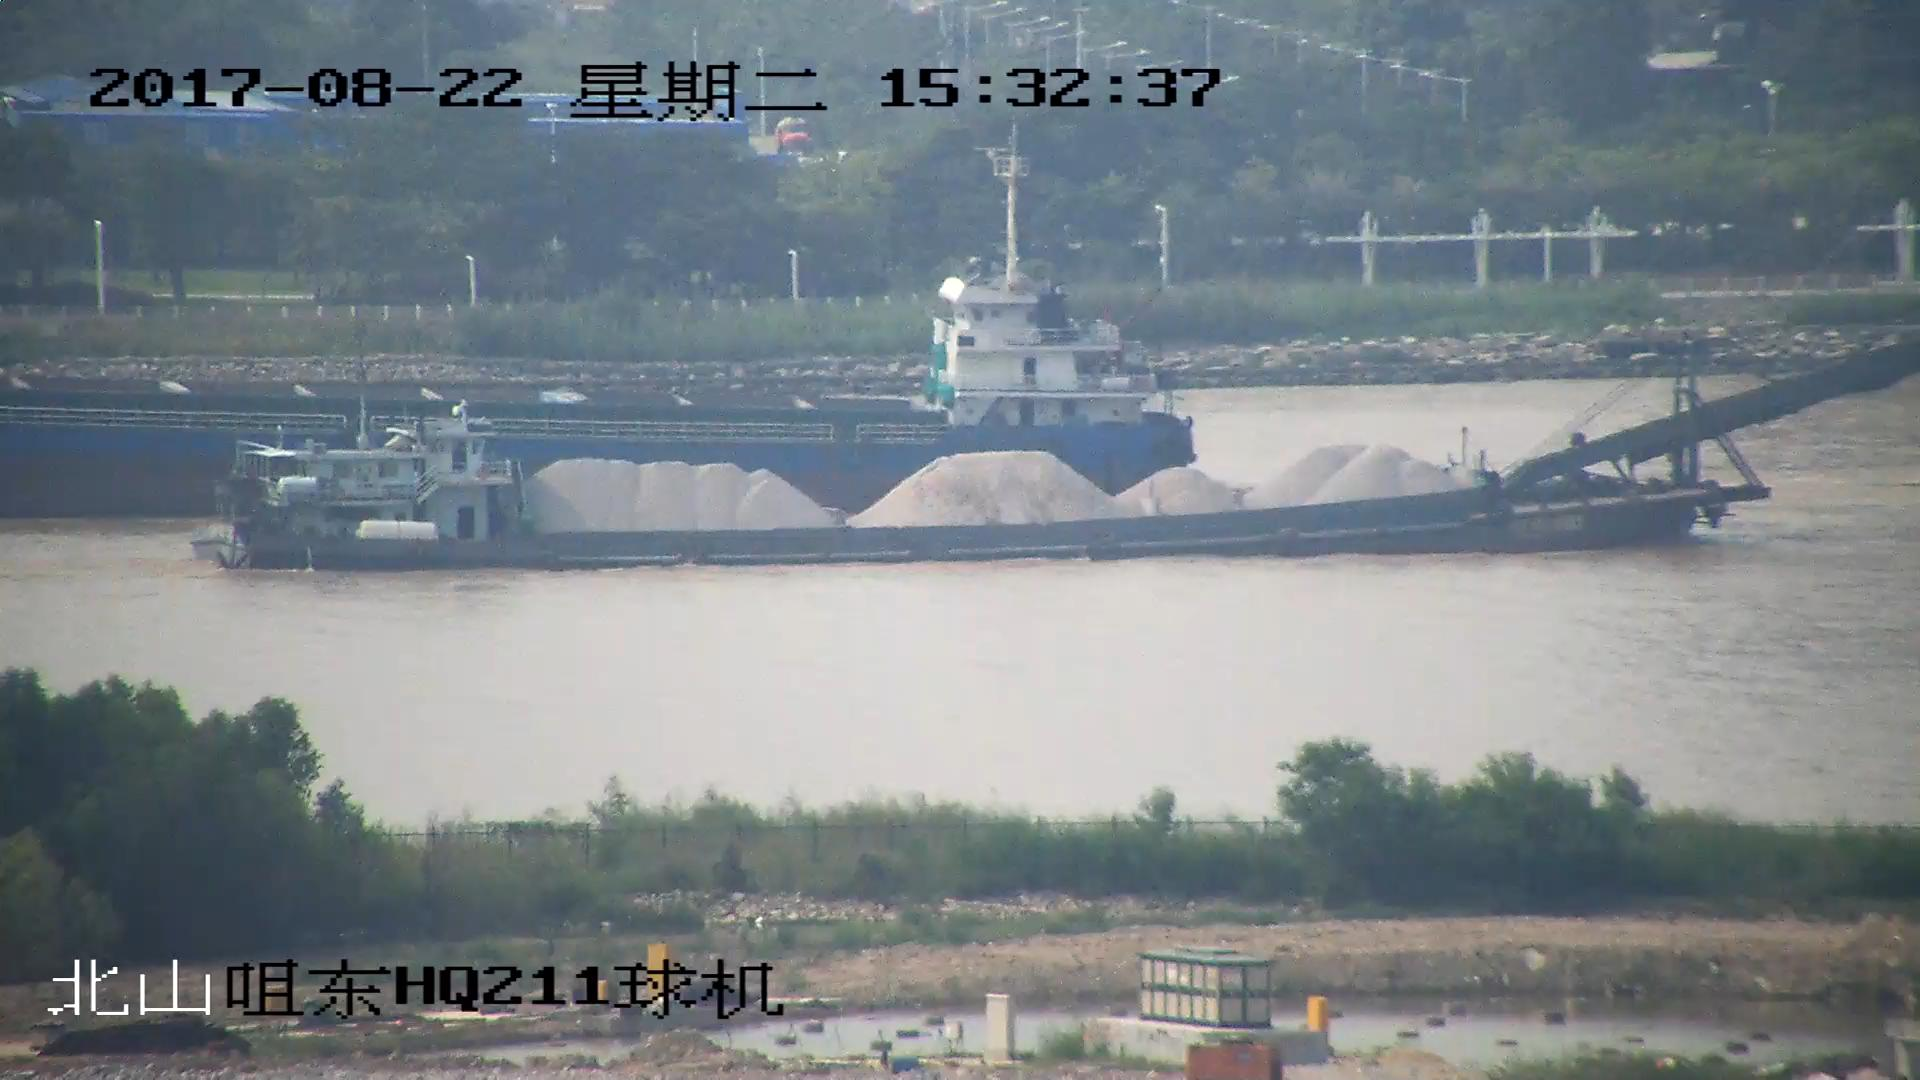bulk cargo carrier: (1, 142, 1199, 503)
ore carrier: (202, 346, 1920, 573)
